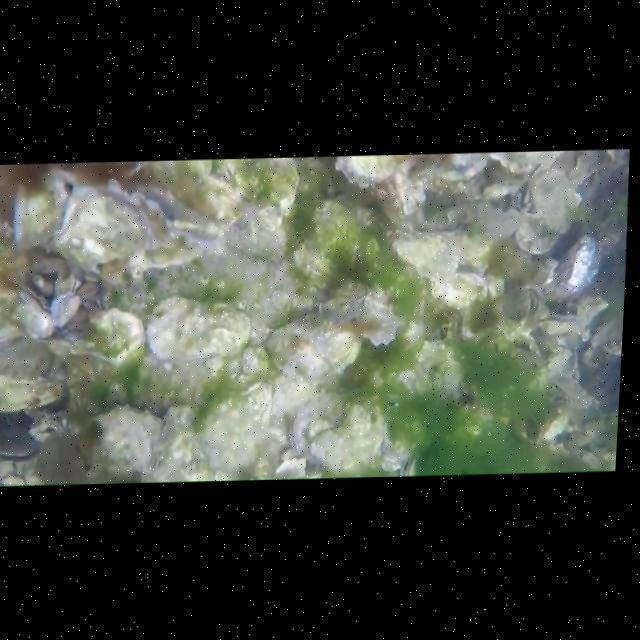Oyster-Closed: (152, 158, 298, 221), (52, 186, 144, 271), (392, 233, 487, 309), (145, 296, 250, 361), (266, 320, 361, 381), (87, 406, 161, 481), (534, 234, 617, 299), (335, 156, 425, 215), (411, 153, 490, 197), (290, 392, 343, 455), (91, 307, 145, 365), (14, 186, 60, 248), (51, 292, 77, 324)
Oyster-Indeterminate: (207, 383, 275, 470), (529, 167, 580, 233), (462, 296, 501, 338), (501, 287, 537, 321), (533, 299, 550, 326)
Oyster-Open: (10, 285, 51, 331), (0, 425, 45, 464), (551, 375, 592, 408), (535, 413, 568, 441), (55, 272, 77, 298)
